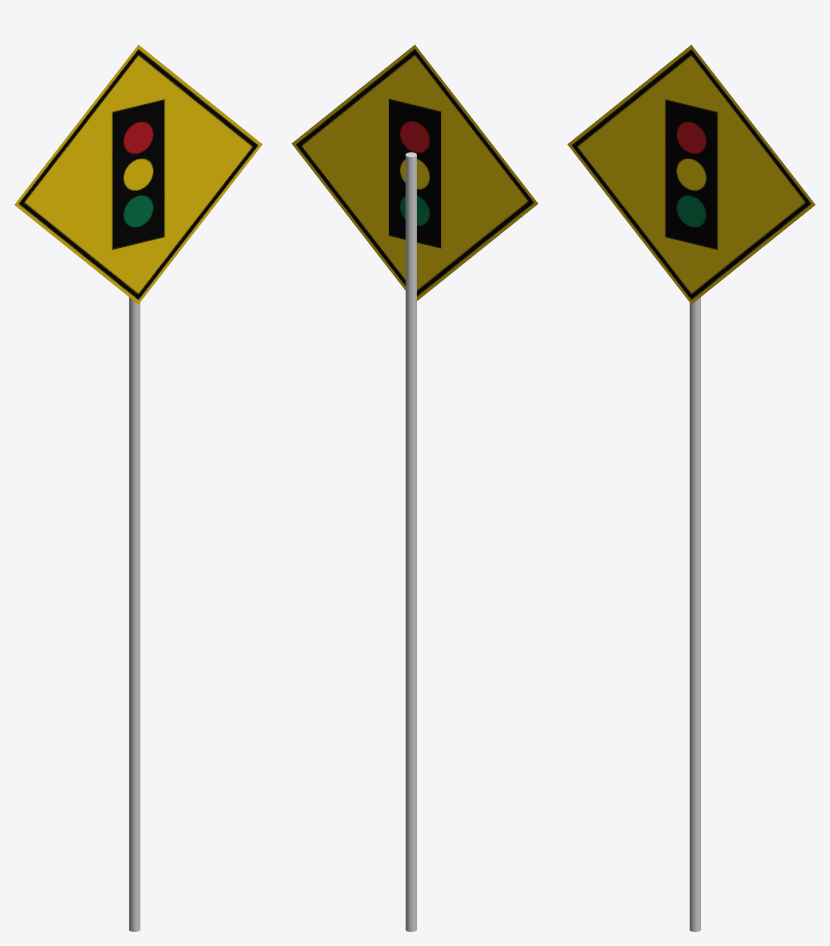
Rendered from traffic light.fbx.
3 renders of one model, left to right at view 1: azimuth 30°, elevation 25°; view 2: azimuth 150°, elevation 25°; view 3: azimuth 330°, elevation 25°, orthographic.
Parts seen in each view (by area): view 1: Plane, Cylinder; view 2: Plane, Cylinder; view 3: Plane, Cylinder.
Part boxes in pixels (x1,y1,x2,y2): Plane: (14, 45, 262, 304); Cylinder: (129, 297, 140, 931); Plane: (291, 45, 538, 300); Cylinder: (405, 152, 416, 931); Plane: (567, 45, 815, 304); Cylinder: (689, 297, 700, 931).
Bounding box in the file's own units: 200 × 682 × 9.27.
